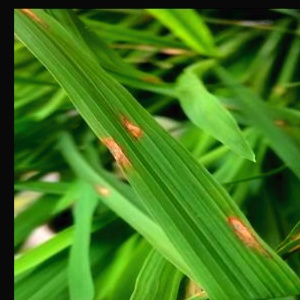Brown_Spot: (210, 205, 296, 260), (93, 133, 138, 175), (113, 103, 164, 140)
